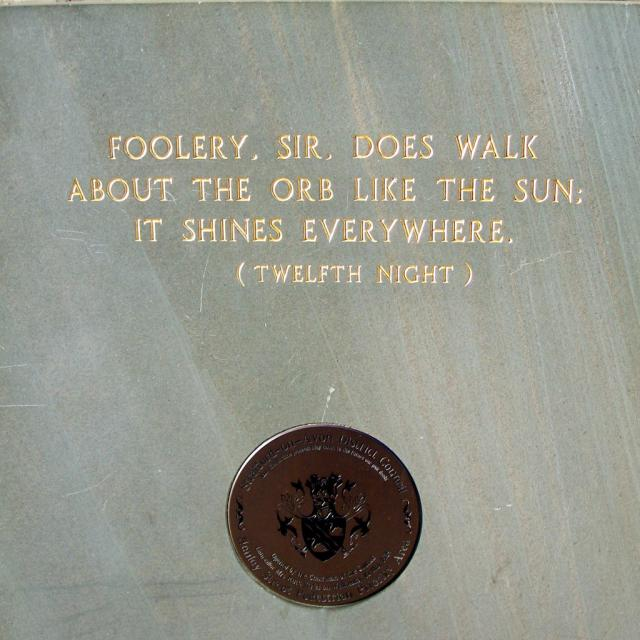Coin: (225, 426, 413, 621)
